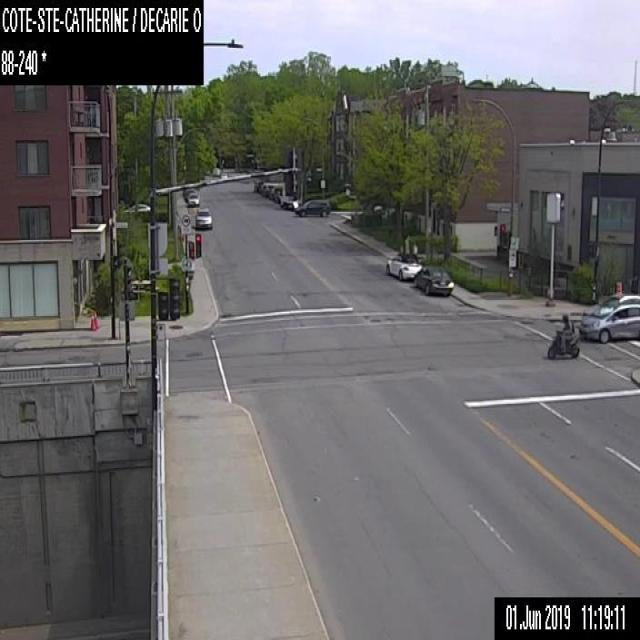construction: (89, 311, 96, 329), (614, 282, 621, 294)
vehicle: (579, 294, 639, 343), (546, 312, 579, 359), (414, 265, 454, 296), (386, 252, 420, 278), (294, 199, 330, 216), (195, 208, 211, 228), (187, 192, 199, 206)
